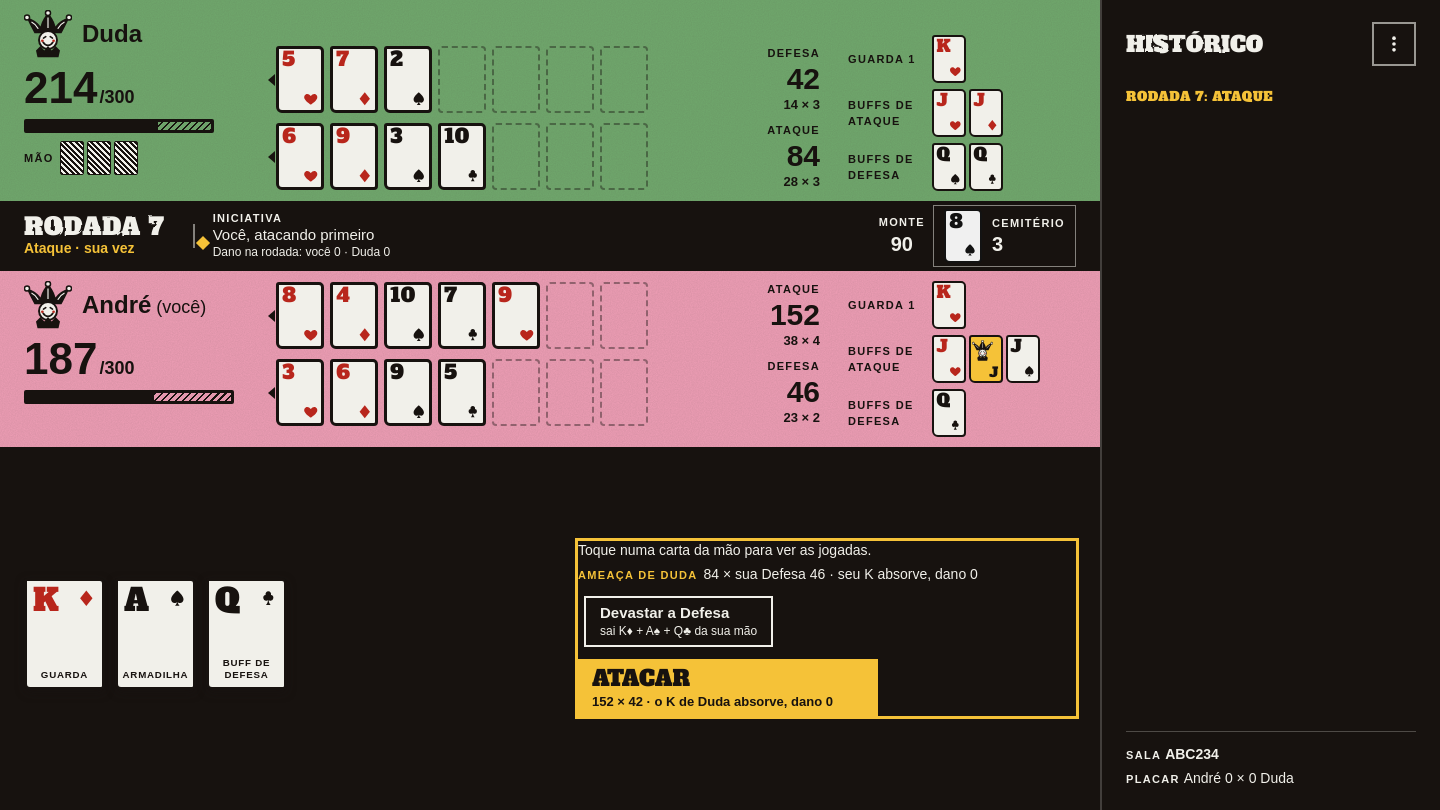
barra de ação: tocar uma carta lista as jogadas (spec §3.4) › as jogadas de cada carta saem da lista legal, e a carta tocada fica pressionada
Click the button with aria-label "A, Armadilha, de ".
click(156, 634)  # box 115,578 -> 196,690
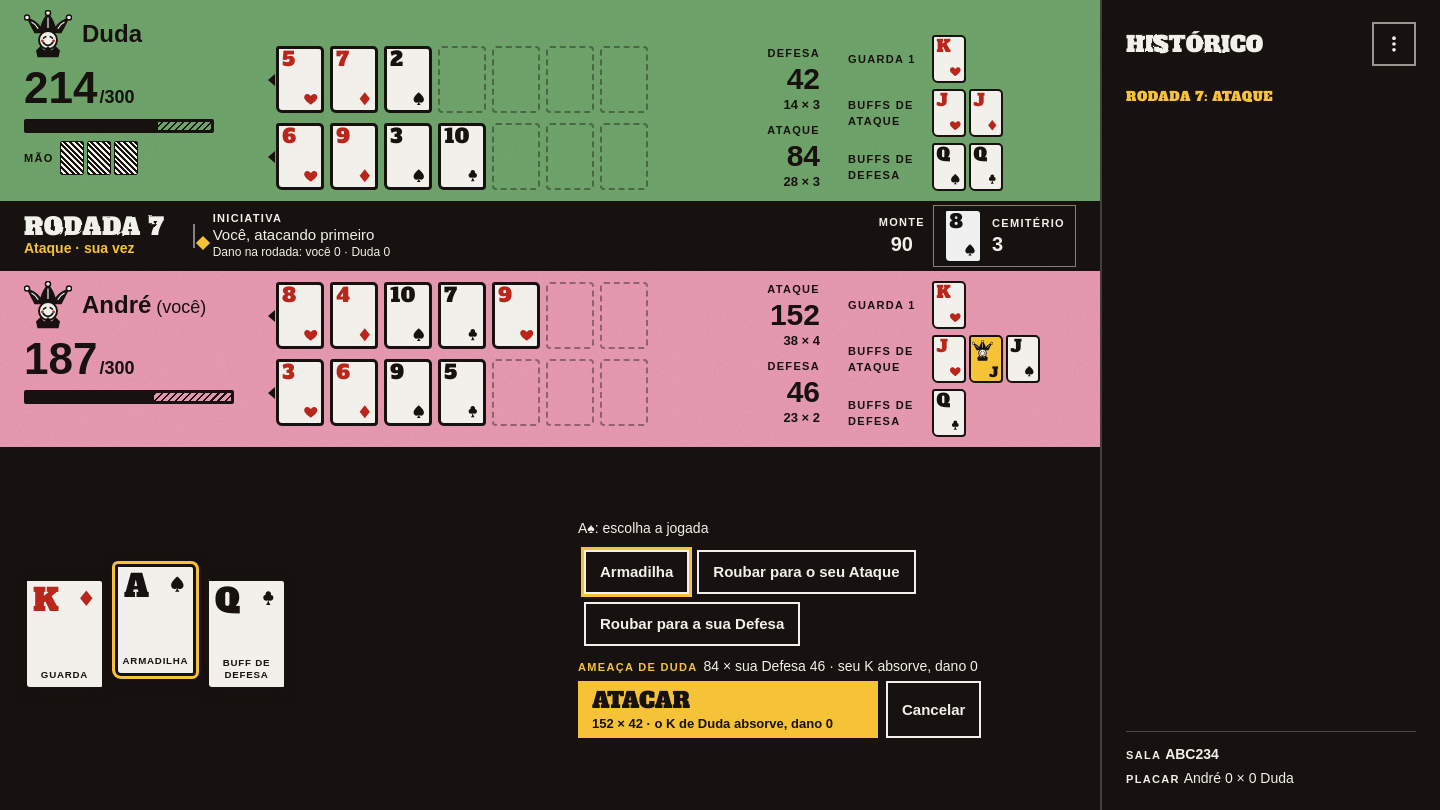
Check: the text "Armadilha" is shown, box 118,655 -> 193,667
Check: the button with aria-label "A, Armadilha, de " is pressed, box 115,564 -> 196,676
Click the button with aria-label "K, Guarda, de ".
click(64, 634)  # box 24,578 -> 105,690
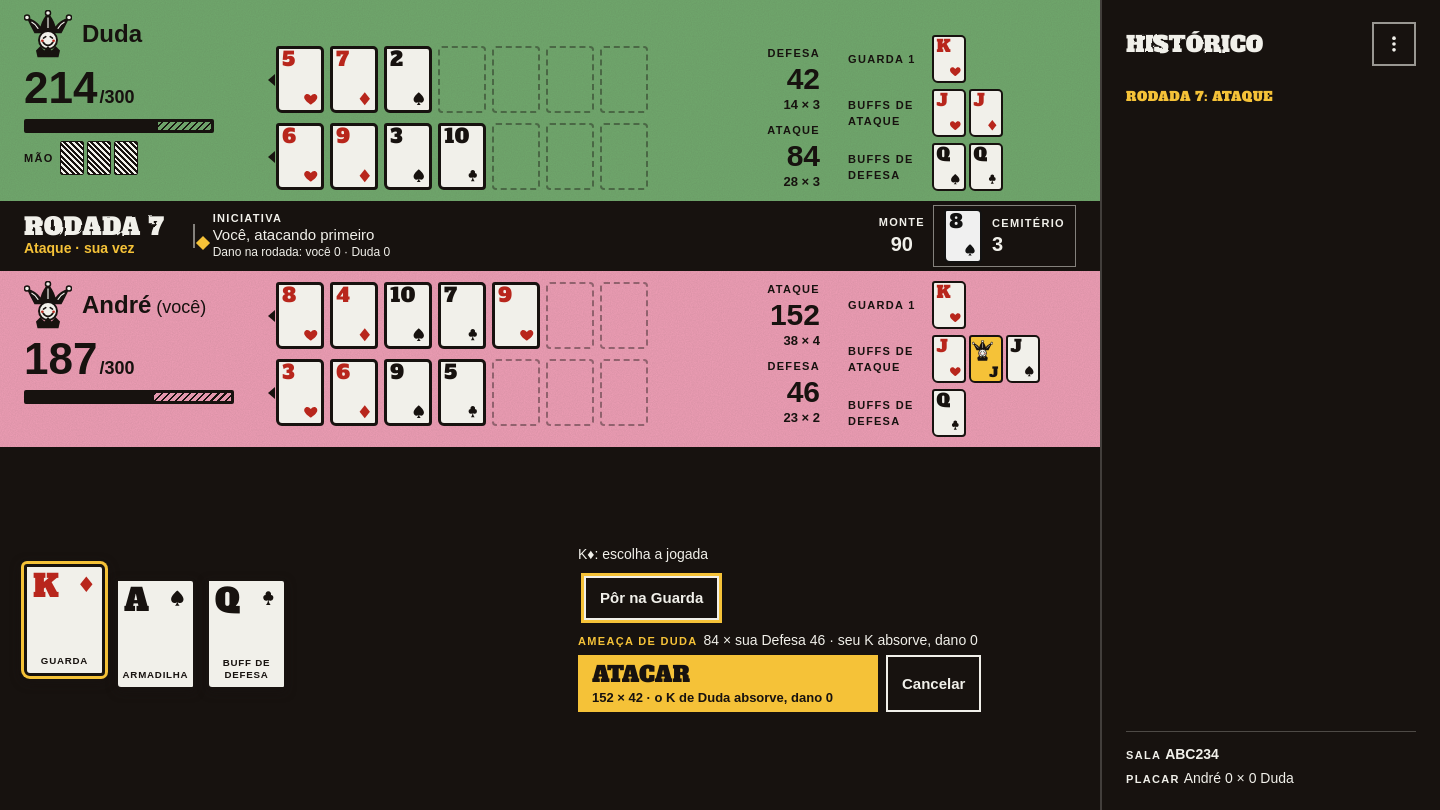
Check: the button "Pôr na Guarda" is shown, box 584,576 -> 719,620
Click the button with aria-label "Q, Buff de defesa, de ".
click(246, 634)  # box 206,578 -> 287,690
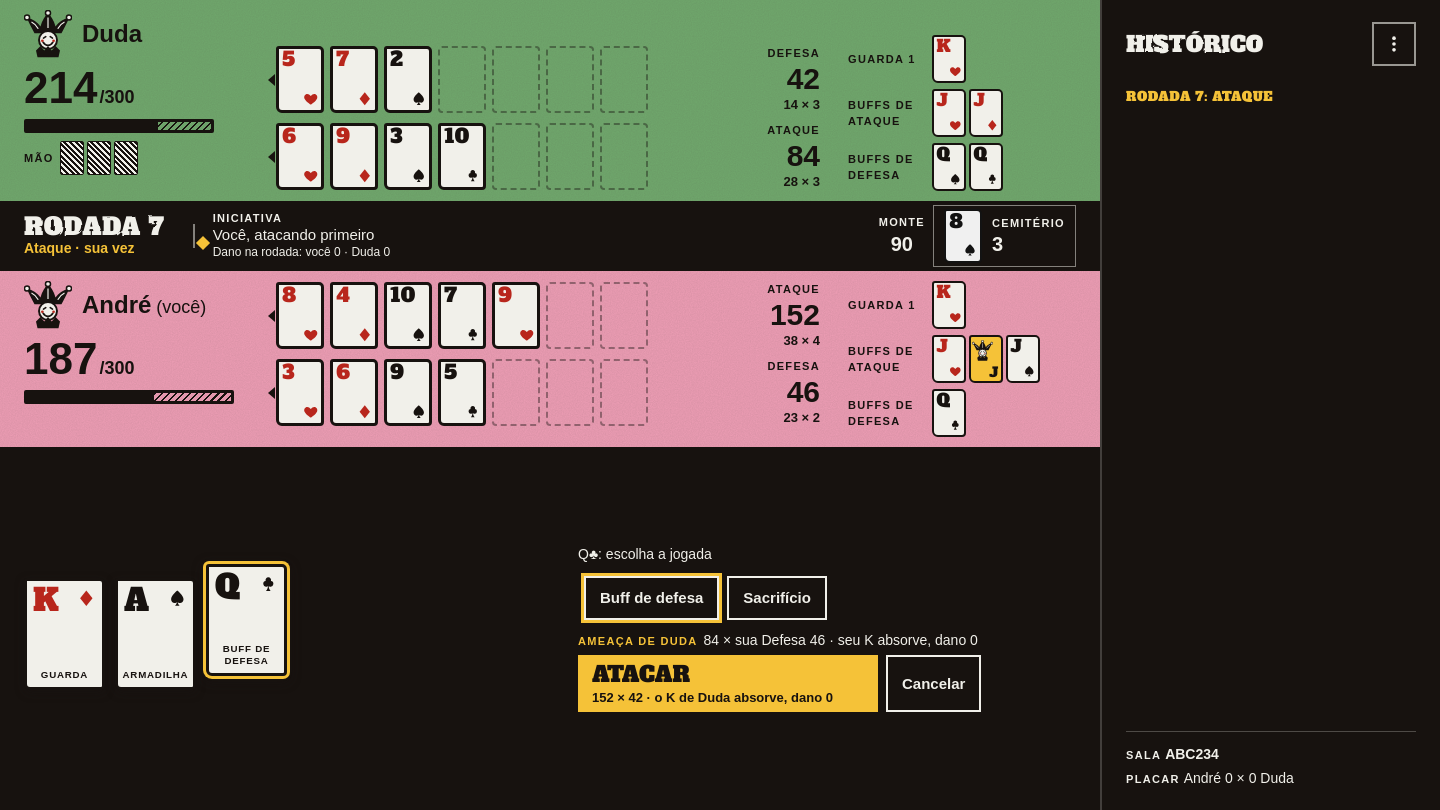
Check: the buttons read "Buff de defesa", "Sacrifício", in this order, box 584,576 -> 719,620; 727,576 -> 827,620
